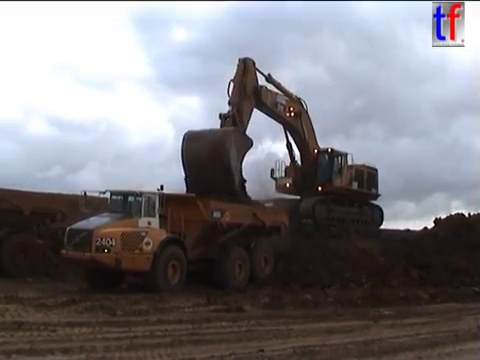excavator: (178, 54, 388, 231)
truck: (58, 182, 293, 296), (1, 185, 152, 282)
